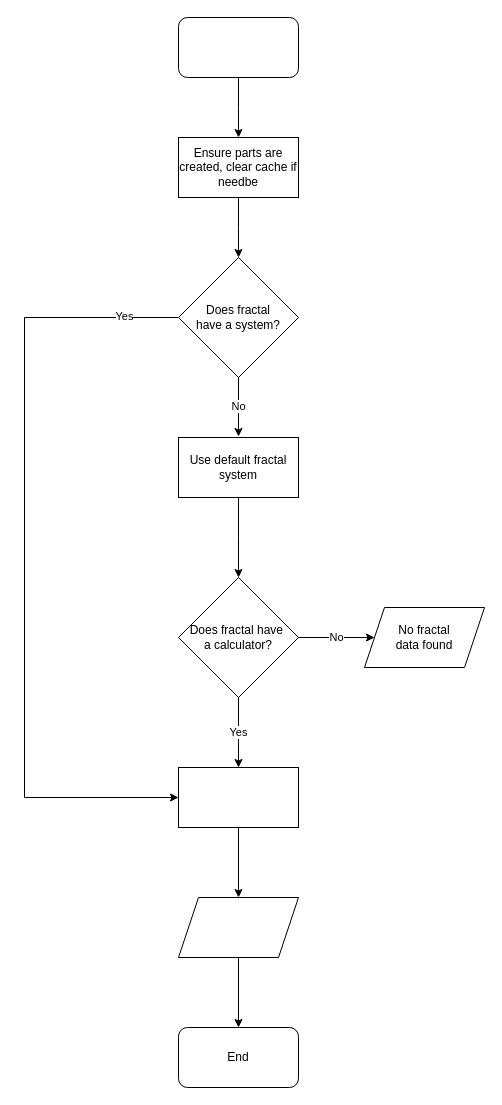
This 502x1105 diagram has some shape labels left out. Each missing label, with the centre of its shape:
"Render cache" belongs at (x=238, y=927).
"Run system, updating cache" belongs at (x=238, y=797).
"Start" belongs at (x=238, y=47).
